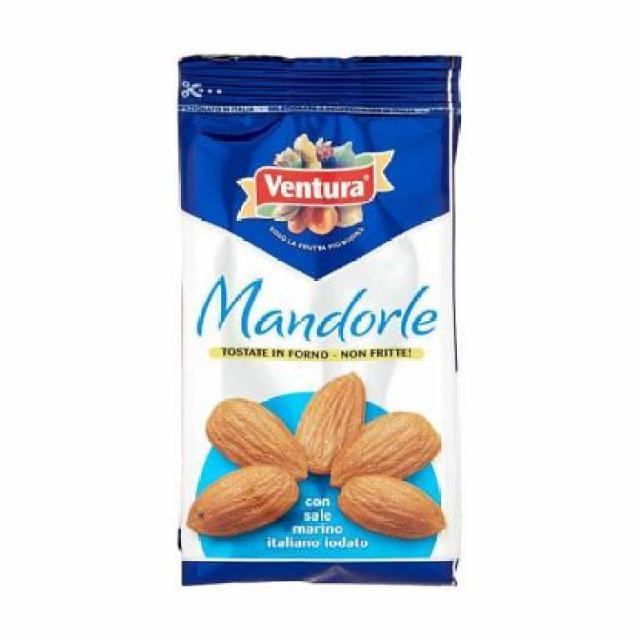Frutta secca: (184, 462, 306, 540), (295, 373, 373, 469), (335, 476, 447, 538)
